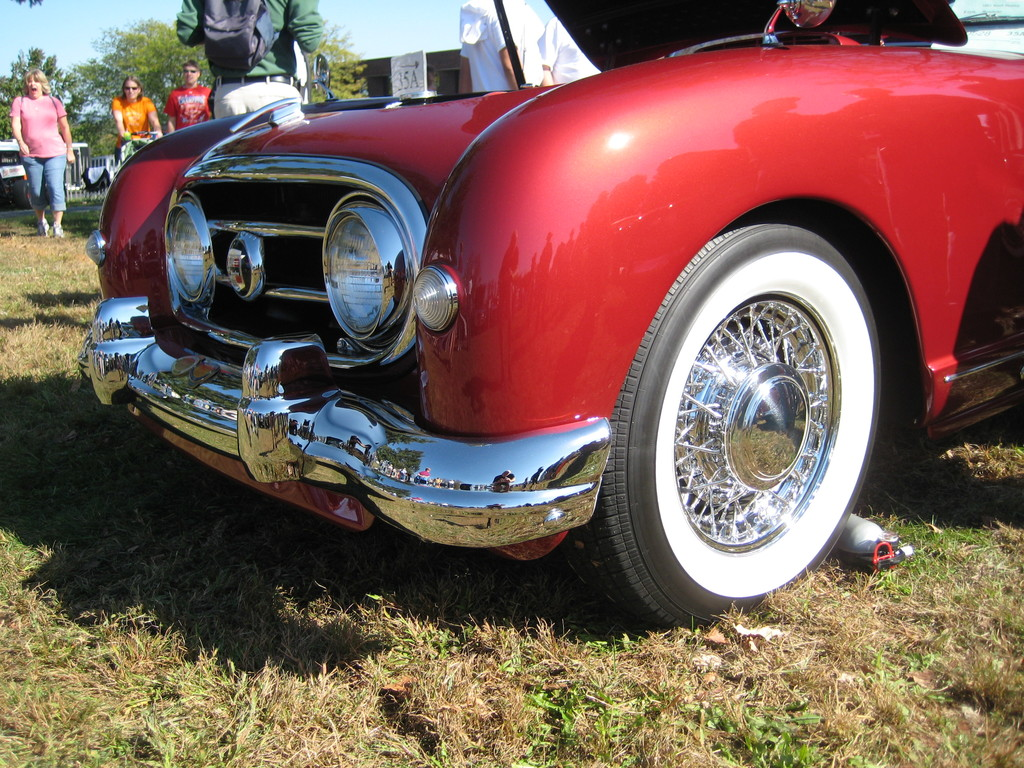Tree: (69, 17, 214, 137), (0, 42, 97, 148), (297, 14, 368, 106)
